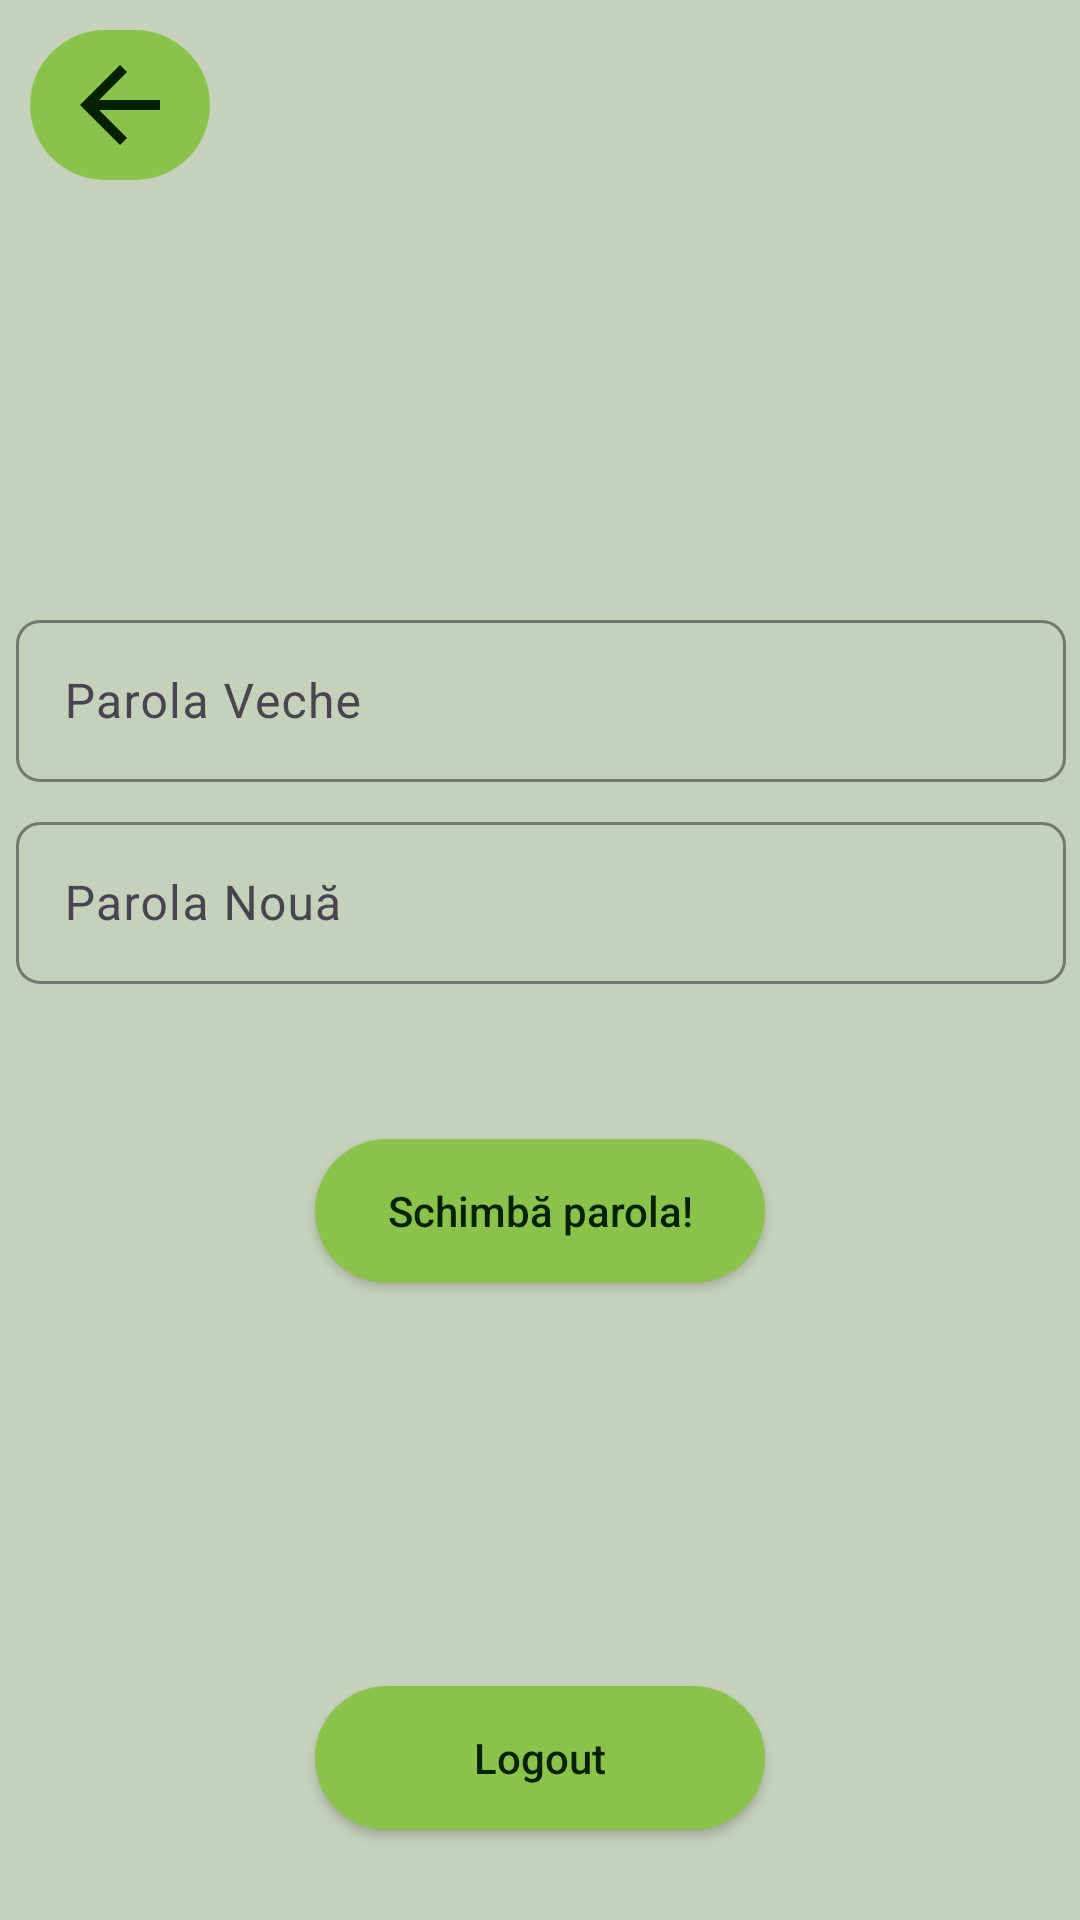

Screen size 1080w x 1920h. Icon name, then its box in pixels as [left=x1, top=y1, right=x2, bottom=y2]:
back arrow: [left=30, top=30, right=210, bottom=180]
